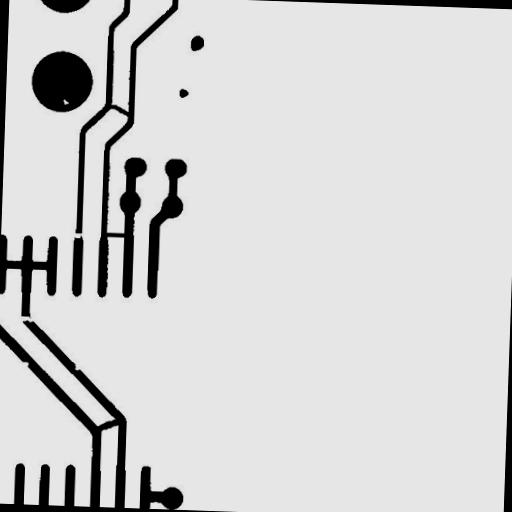copper: (170, 80, 196, 105)
mousebite: (66, 356, 88, 378), (14, 354, 36, 376)
open: (11, 308, 41, 330), (65, 224, 90, 246)
pin-hole: (54, 90, 76, 112)
short: (84, 410, 129, 442), (100, 96, 140, 126), (97, 224, 134, 244)
